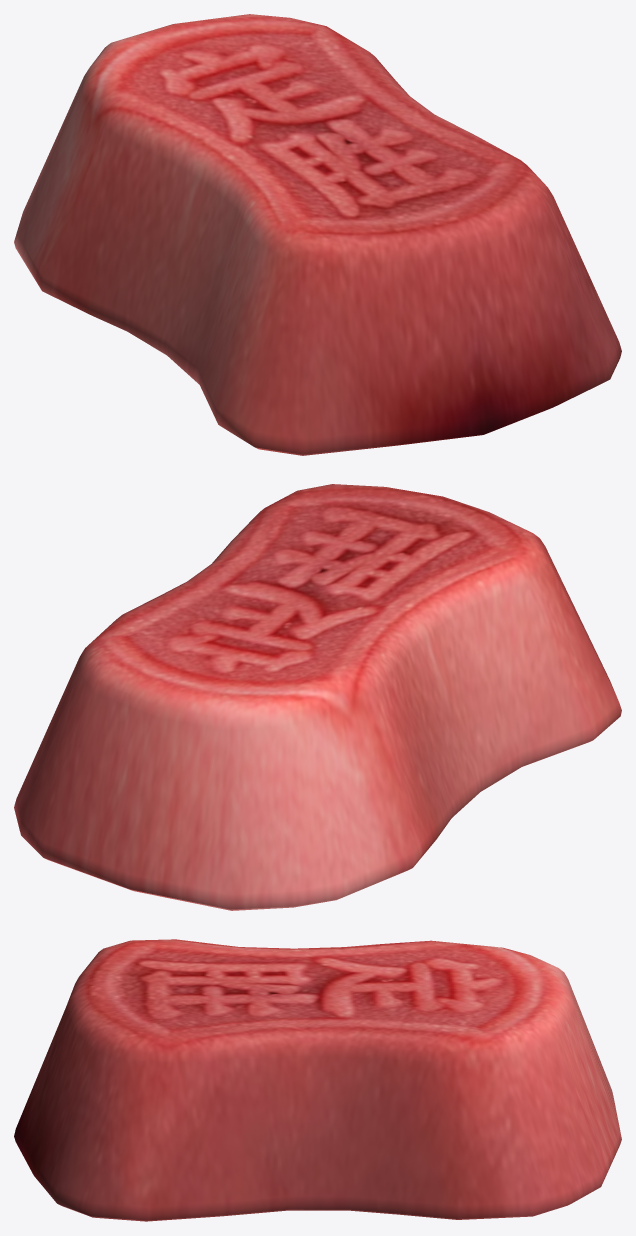
Rendered from dsg.FBX.
3 views of the same model, one above another, from view 1: azimuth 30°, elevation 25°; view 2: azimuth 150°, elevation 25°; view 3: azimuth 270°, elevation 25° (orthographic). The views are drawn at different scales.
Visible parts, largest first — view 1: Plane001; view 2: Plane001; view 3: Plane001.
Part boxes in pixels (x1,y1,x2,y2): Plane001: (14,14,621,455); Plane001: (14,484,621,910); Plane001: (14,939,621,1221).
Size of the model in its own units: 0.0655 by 0.03 by 0.1047.
